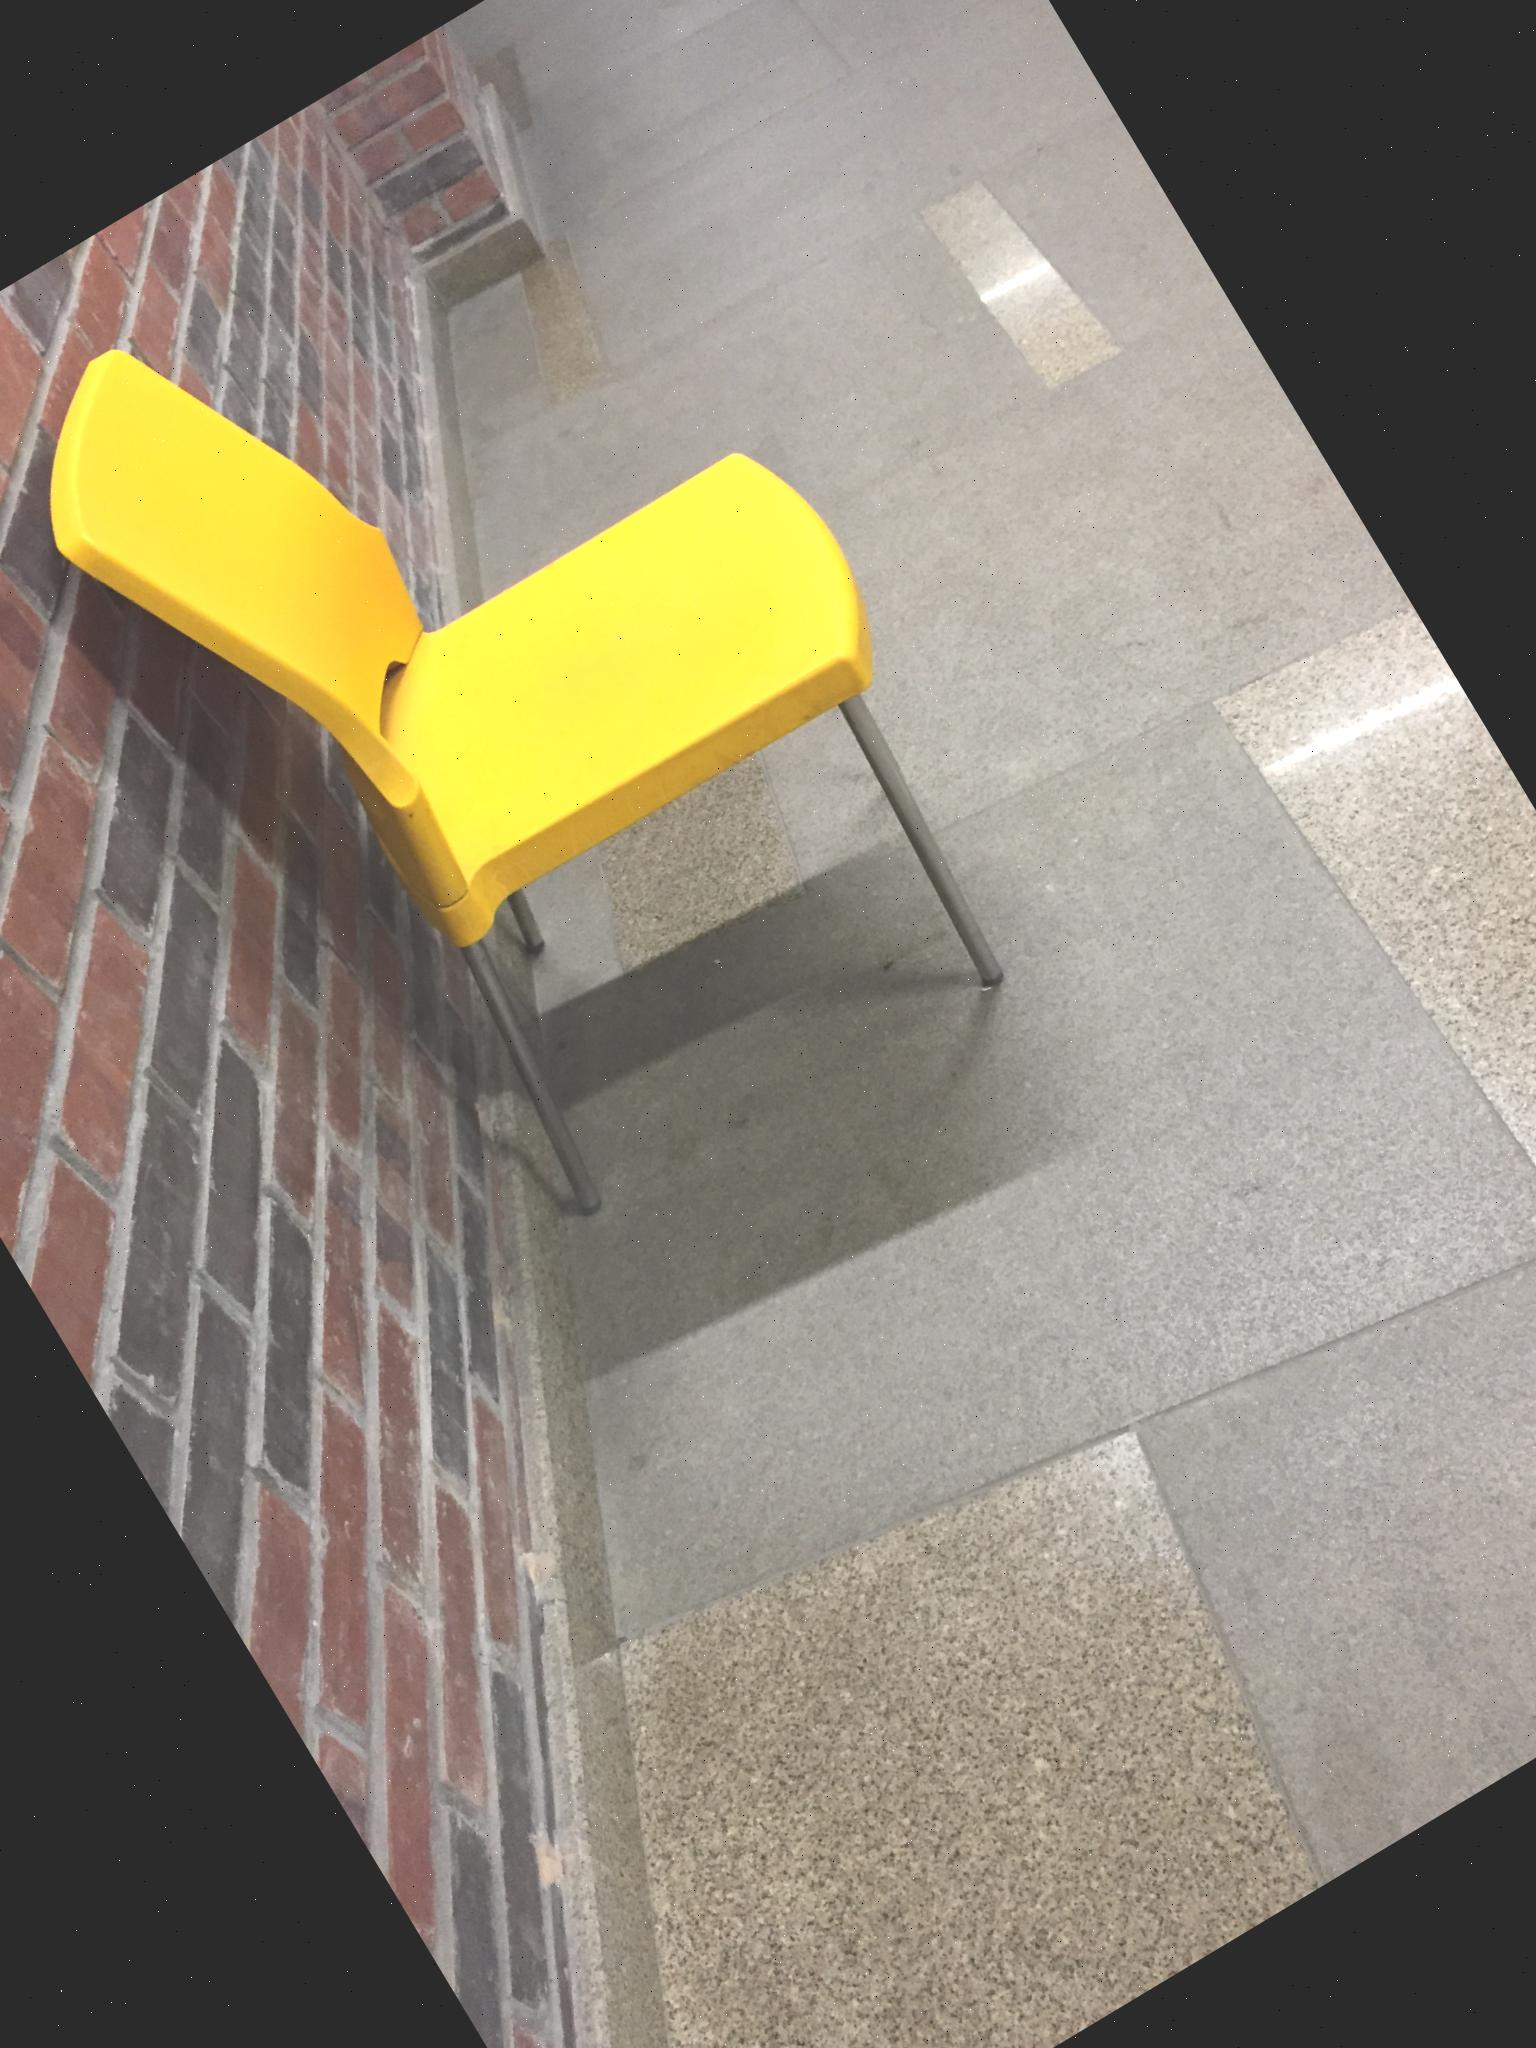chair: (0, 76, 1075, 1284)
